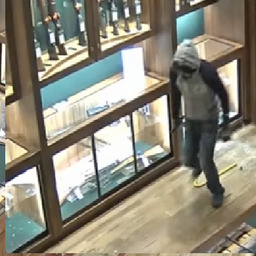person: (169, 39, 230, 208)
